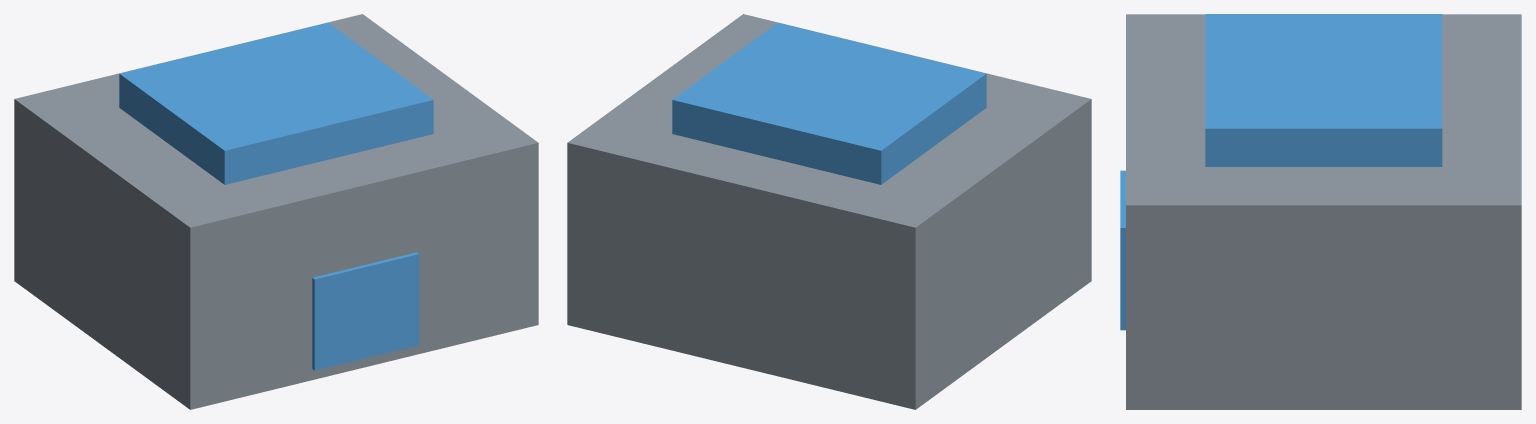
Rendered from SM_Alliance_AL_MCV_MobileNode_Blockout.fbx.
The picture shows the model from 3 angles, left to right: view 1: azimuth 30°, elevation 25°; view 2: azimuth 150°, elevation 25°; view 3: azimuth 270°, elevation 25°; orthographic projection. The views are drawn at different scales.
Parts seen in each view (by area): view 1: MainBuilding, RoofStructure, EntranceGate; view 2: MainBuilding, RoofStructure; view 3: MainBuilding, RoofStructure, EntranceGate.
Part boxes in pixels (x1,y1,x2,y2): MainBuilding: [14, 14, 538, 409]; RoofStructure: [119, 22, 433, 184]; EntranceGate: [312, 252, 419, 370]; MainBuilding: [567, 14, 1091, 409]; RoofStructure: [672, 22, 986, 184]; MainBuilding: [1126, 14, 1521, 409]; RoofStructure: [1205, 14, 1442, 166]; EntranceGate: [1120, 170, 1125, 330].
Bounding box in the file's own units: 800 × 475 × 710.
